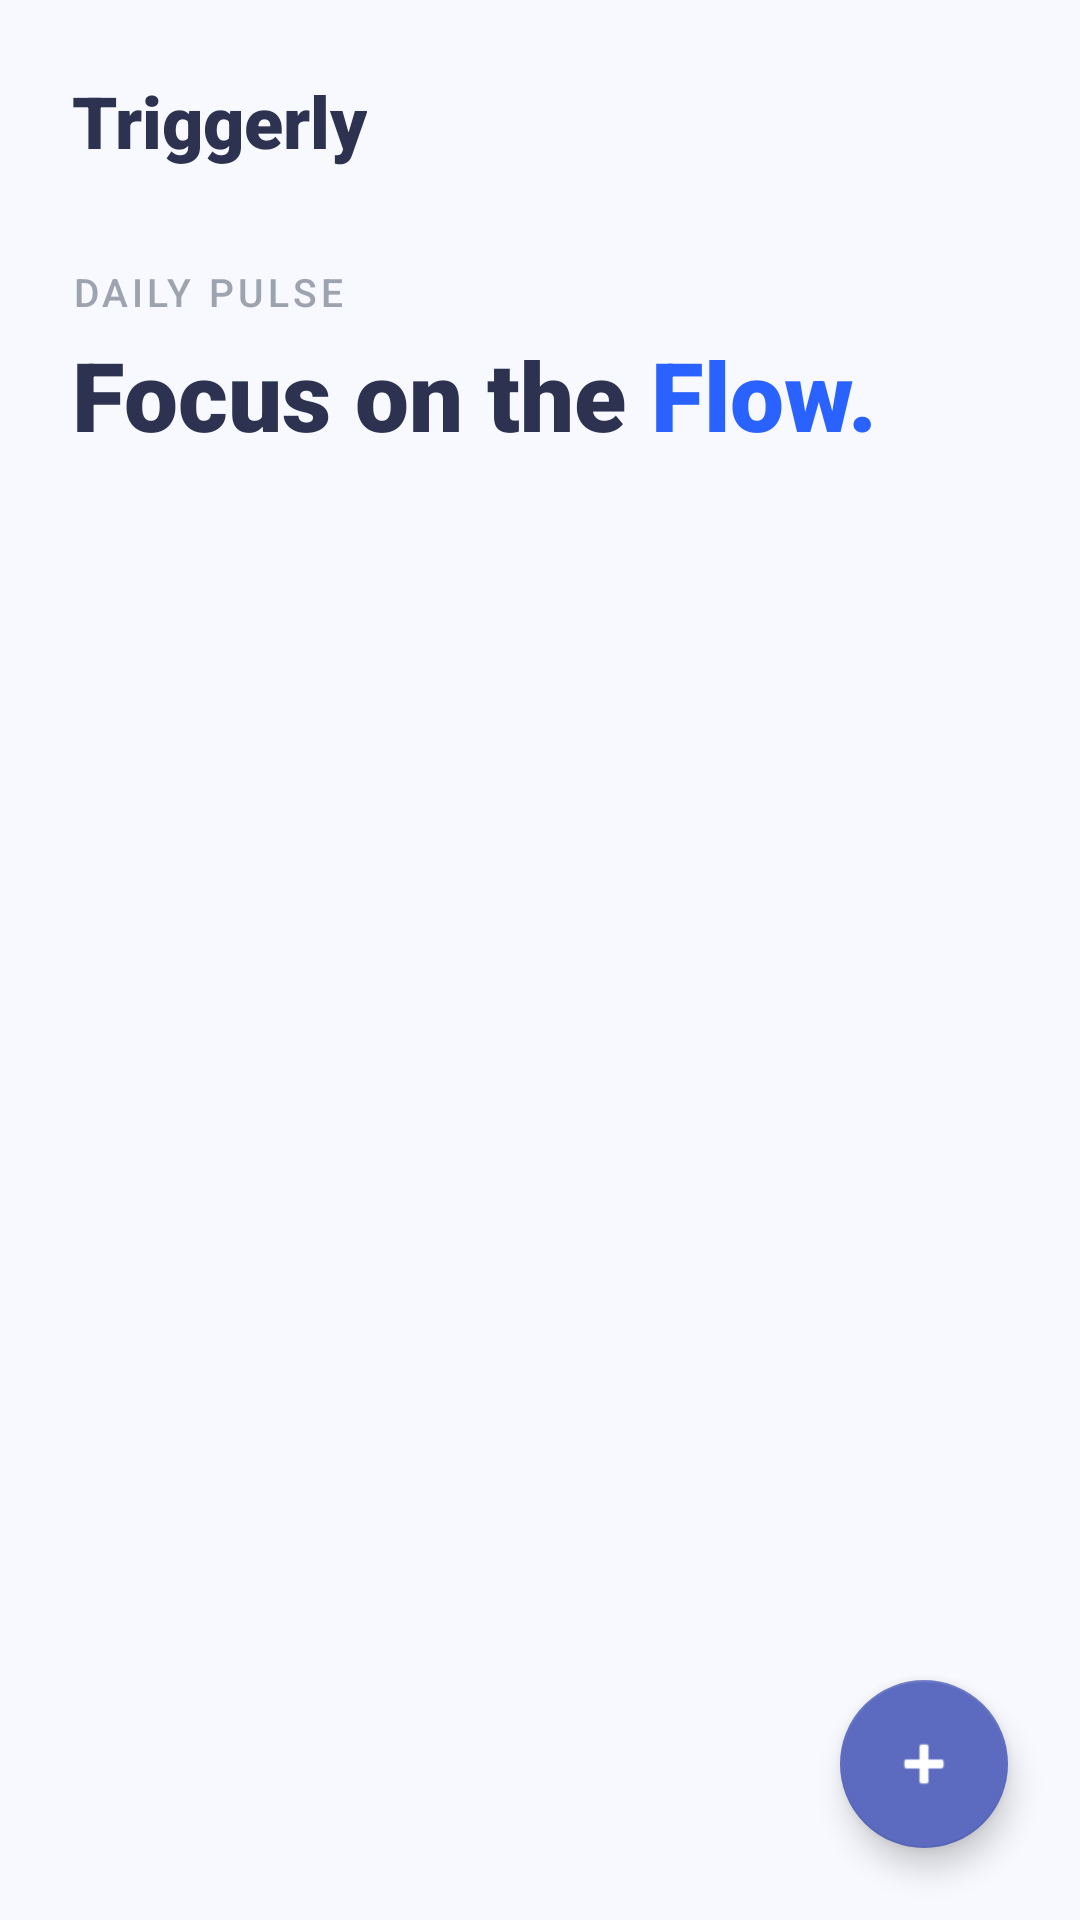

Icon bounding boxes for this 1080w x 1920h phone screenshot, format (x1, y1, x2, y2):
Add Reminder: (840, 1680, 1008, 1848)
